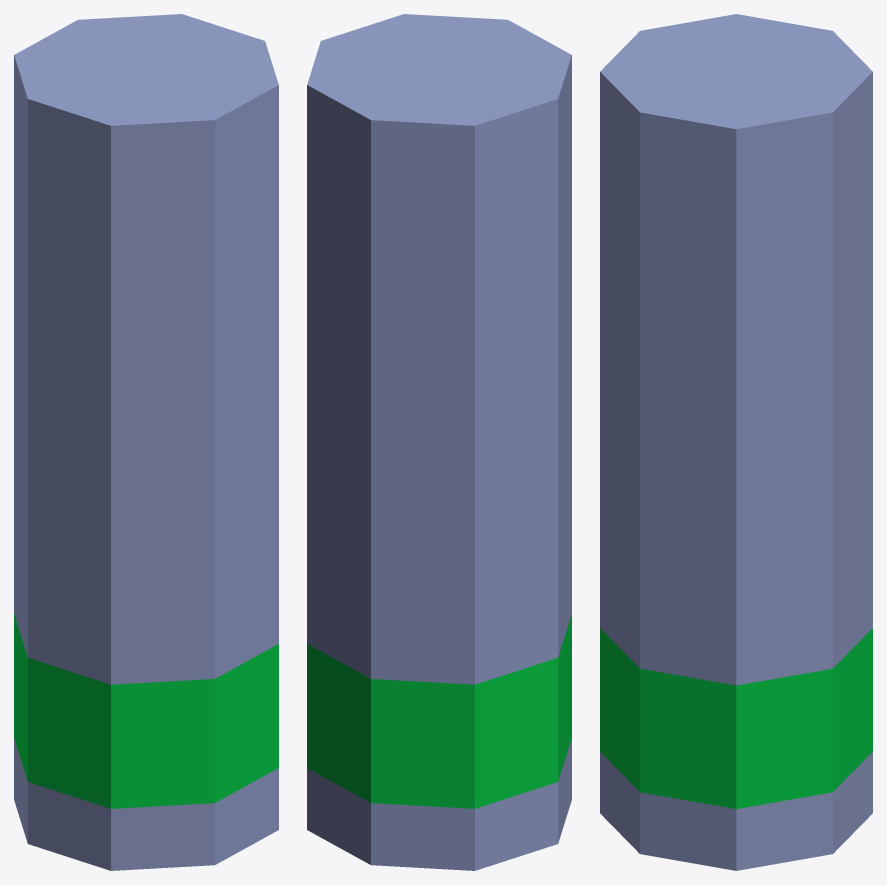
The model's file is post.fbx.
3 views of the same model, side by side, from view 1: azimuth 30°, elevation 25°; view 2: azimuth 150°, elevation 25°; view 3: azimuth 270°, elevation 25° (orthographic).
Visible parts, largest first — view 1: Cylinder; view 2: Cylinder; view 3: Cylinder.
Part boxes in pixels (box(x1,y1,x2,y2)): Cylinder: box(14, 14, 278, 870); Cylinder: box(307, 14, 571, 870); Cylinder: box(600, 14, 872, 870).
Bounding box in the file's own units: 4 × 12 × 4.
